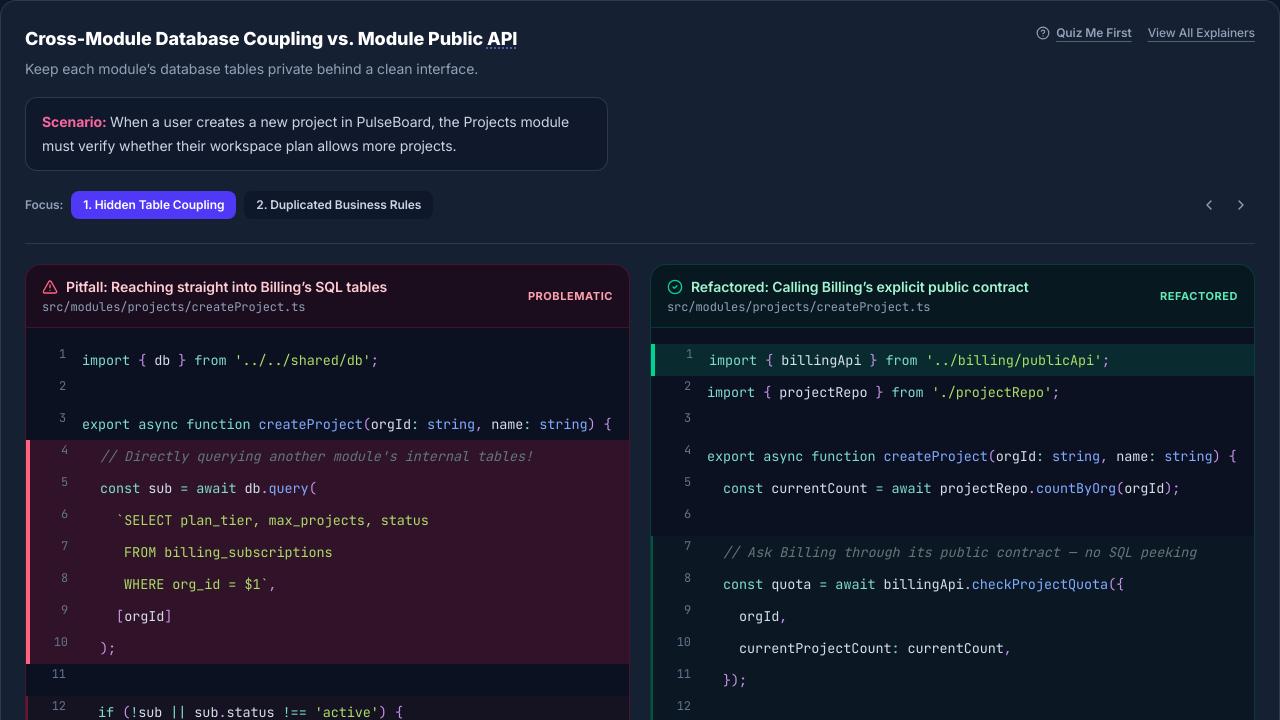
Scenario: CodeComparison › supports Quiz Me First mode to spot risky lines before revealing refactored code
Click the button "Quiz Me First". click: {"x": 1084, "y": 33}
box: [1036,25,1132,41]
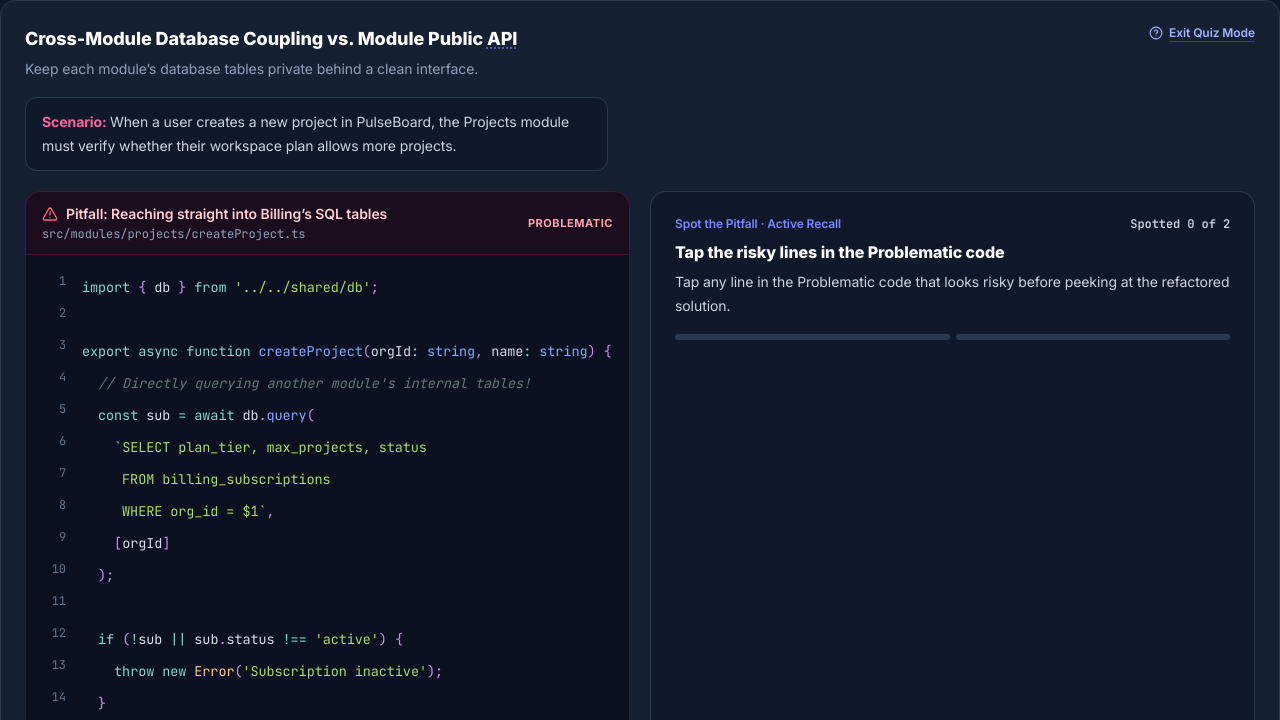
Check: the text "Refactored: Calling Billing’s explicit public contract" is gone
Check: the text "Spotted 0 of 2" is shown, box [1130,216,1230,232]
// Click a risky line from the first annotation
Click the button "4 // Directly querying another module's internal tables!". click: {"x": 295, "y": 380}
box: [59,369,531,392]
(page scrolled)
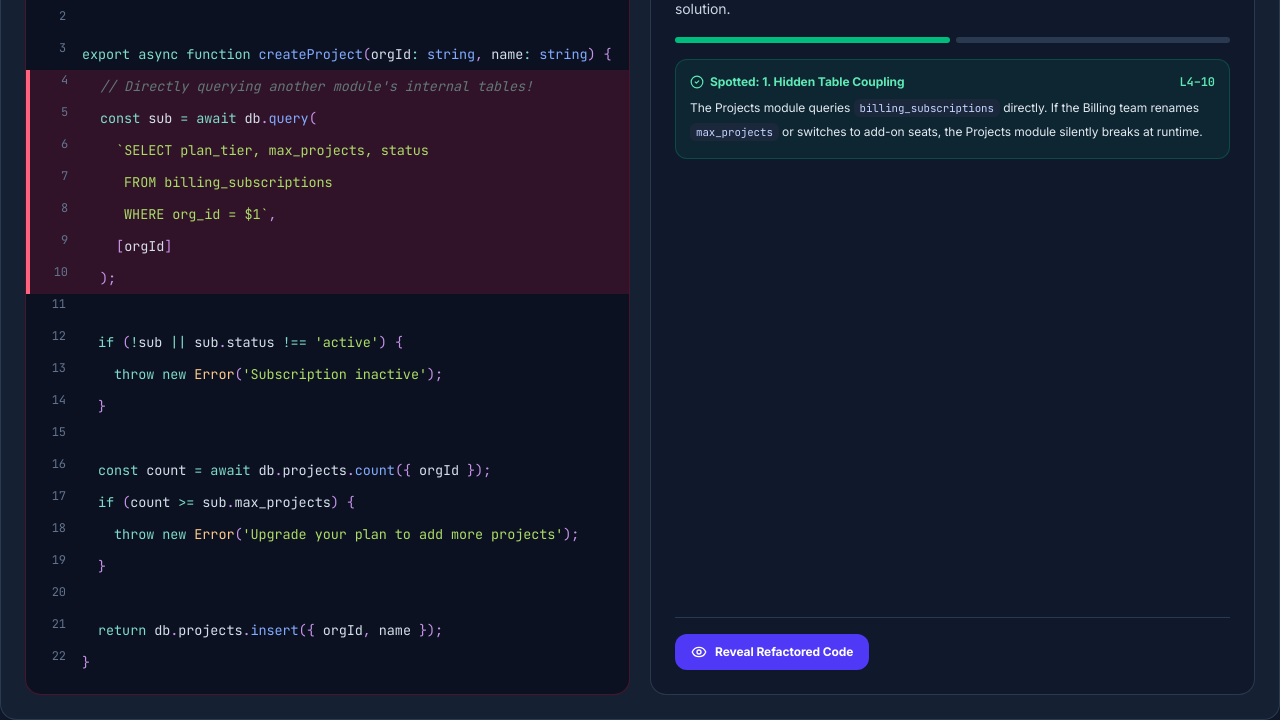
// Reveal refactored code
Click the button "Reveal Refactored Code". click: {"x": 772, "y": 652}
box: [675,634,869,670]
(page scrolled)
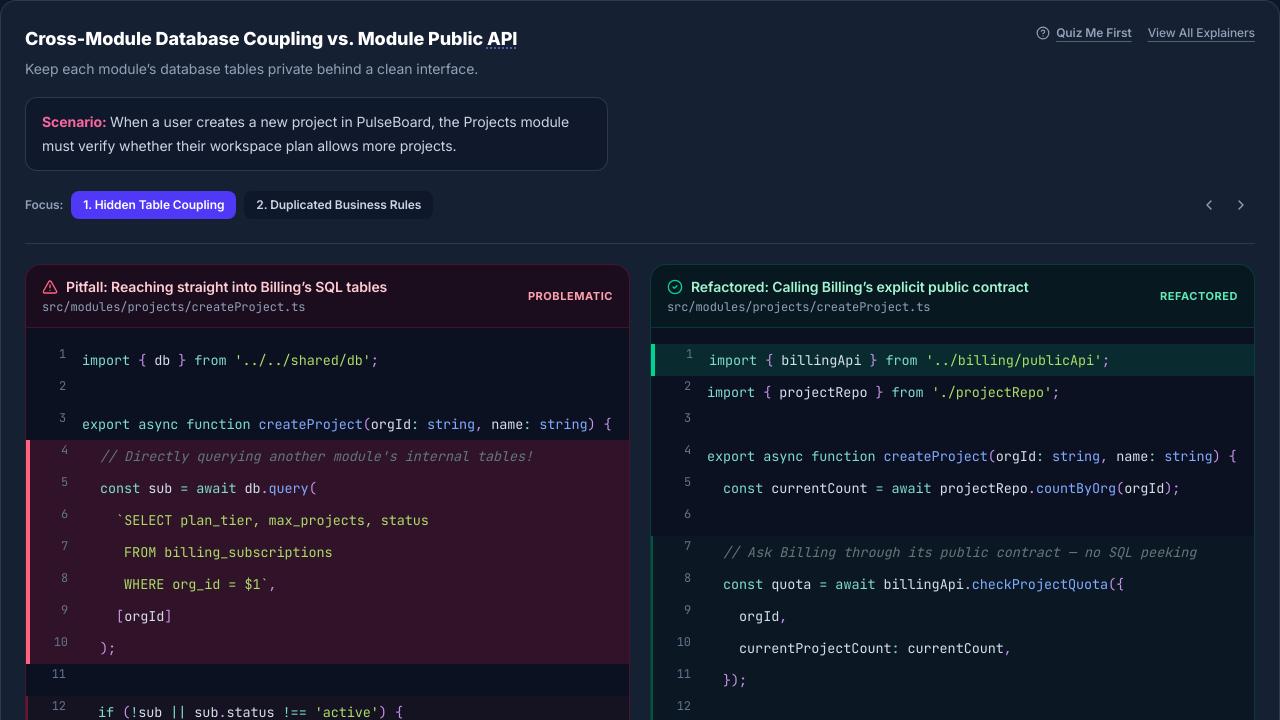
Check: the text "Refactored: Calling Billing’s explicit public contract" is shown, box [691,277,1029,297]
